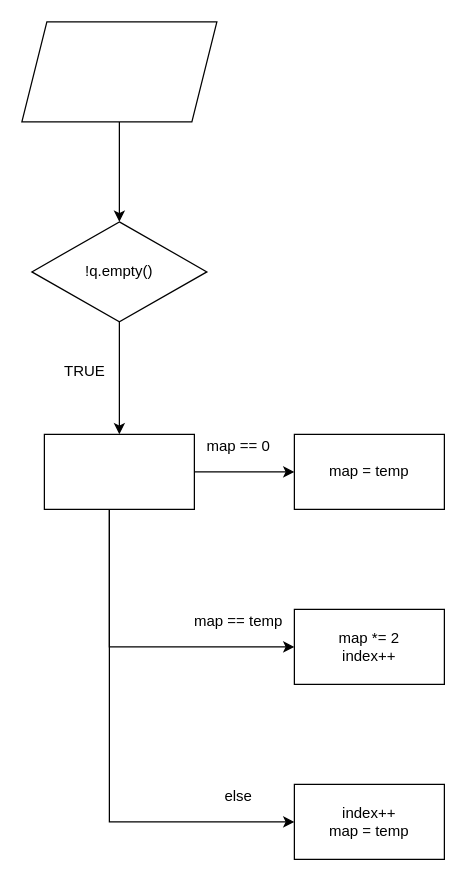
The diagram is 466 pixels wide and 881 high, and some of its shapes have lost their labels. The shapes that lost their labels are listed below. From the top down, each one's centre as x and y in pixels, then its label:
At pixel 119 71: "vector<vector<int>> map queue<int> q int answer = 0".
At pixel 118 471: "temp = q.front() q.pop()".
